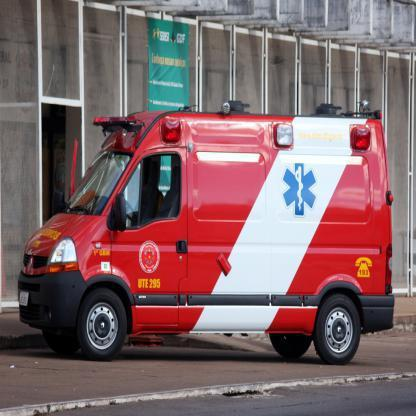Ambulance - v1 Ambulance last generate: (16, 97, 396, 365)
